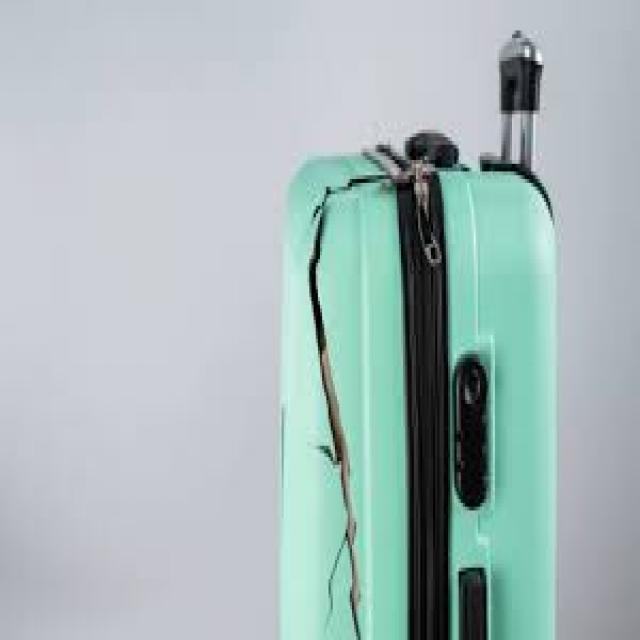Damage-bag: (309, 175, 388, 639)
